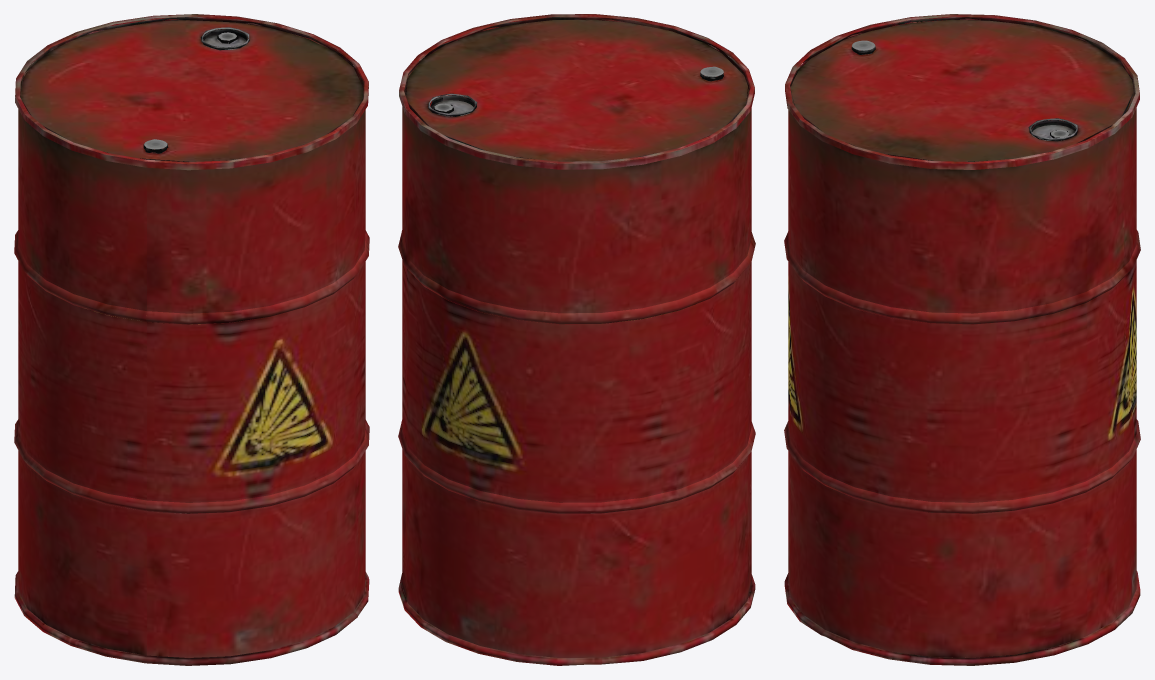
File: Barrel_01.glb
3 renders of one model, left to right at view 1: azimuth 30°, elevation 25°; view 2: azimuth 150°, elevation 25°; view 3: azimuth 270°, elevation 25°, orthographic.
Visible parts, largest first — view 1: Barrel_01; view 2: Barrel_01; view 3: Barrel_01.
Boxes of the visible parts, box(x1,y1,x2,y2) form: Barrel_01: box(14, 14, 369, 665); Barrel_01: box(398, 14, 755, 665); Barrel_01: box(784, 14, 1140, 665).
Size of the model in its own units: 0.5638 by 0.8796 by 0.5638.
Materials: 1 (1 with a texture image).
